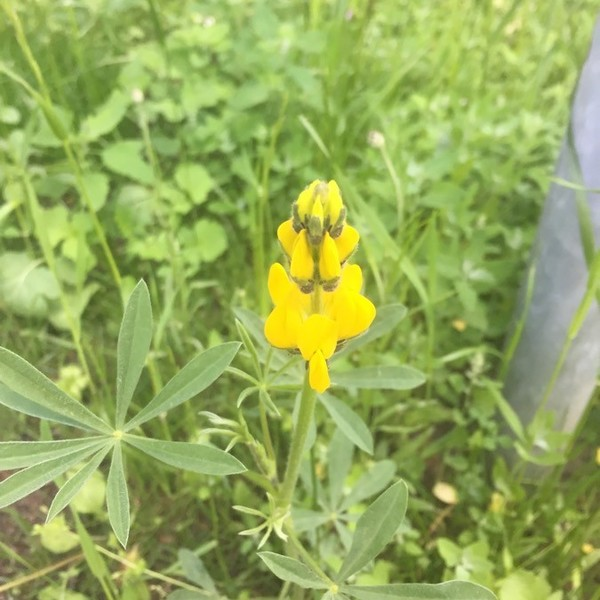obstacle: (233, 148, 437, 570), (11, 268, 260, 542)
